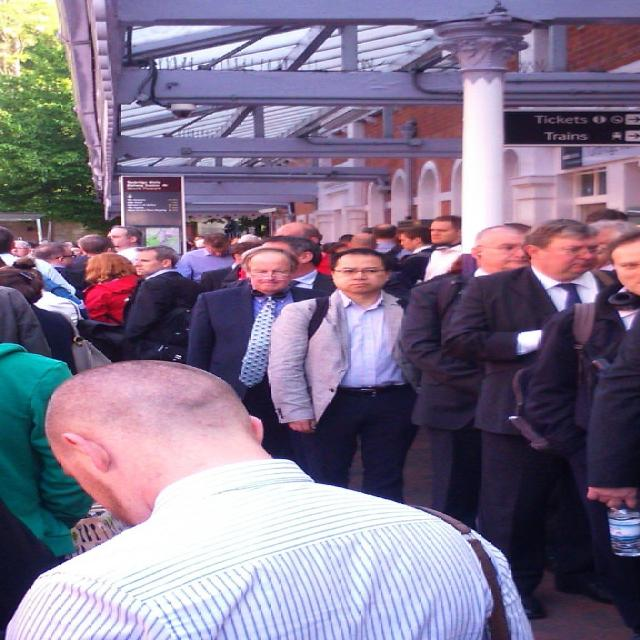body: (0, 352, 601, 640), (441, 218, 623, 623), (511, 227, 639, 637), (393, 221, 532, 530), (266, 246, 424, 504), (181, 245, 333, 463), (0, 284, 84, 639), (117, 244, 202, 363), (1, 268, 86, 376), (0, 257, 90, 339), (222, 234, 337, 294), (237, 220, 332, 282), (0, 226, 78, 296), (79, 250, 144, 326), (196, 241, 264, 293), (30, 240, 87, 301), (317, 216, 411, 252), (584, 208, 634, 273), (421, 214, 466, 284), (176, 232, 237, 283), (393, 225, 437, 285), (66, 233, 122, 276), (410, 252, 478, 287), (222, 212, 274, 244), (105, 225, 144, 264), (0, 240, 36, 270), (186, 214, 204, 252), (62, 240, 87, 256), (317, 251, 333, 276), (504, 222, 534, 232), (108, 245, 120, 253)
